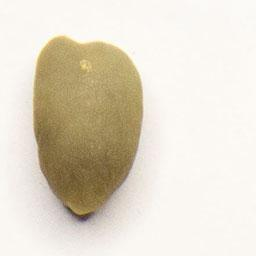longberry: (29, 32, 147, 219)
